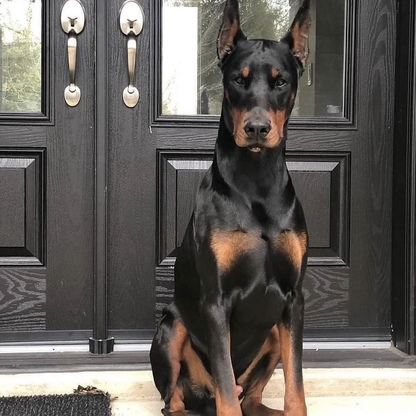doberman: (150, 4, 317, 416)
